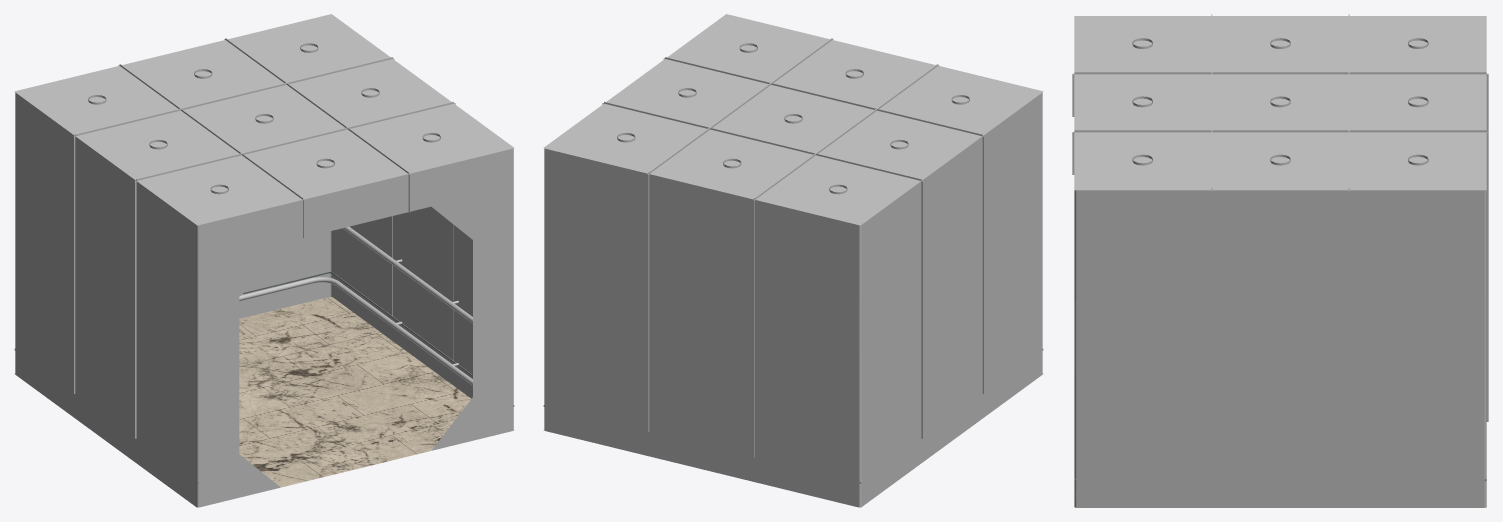
The model's file is elev.fbx.
3 views of the same model, side by side, from view 1: azimuth 30°, elevation 25°; view 2: azimuth 150°, elevation 25°; view 3: azimuth 270°, elevation 25° (orthographic). The views are drawn at different scales.
Visible parts, largest first — view 1: elevator walls.001, elevator roof, elevator floor.001, holder; view 2: elevator walls.001, elevator roof; view 3: elevator walls.001, elevator roof.
Boxes of the visible parts, x1,y1,x2,y2 form: elevator walls.001: (15,39,513,507); elevator roof: (14,14,514,225); elevator floor.001: (14,297,514,507); holder: (239,226,472,385); elevator walls.001: (544,39,1042,507); elevator roof: (543,14,1043,225); elevator walls.001: (1072,73,1488,507); elevator roof: (1074,14,1486,190).
Bounding box in the file's own units: 404 × 343 × 404.
